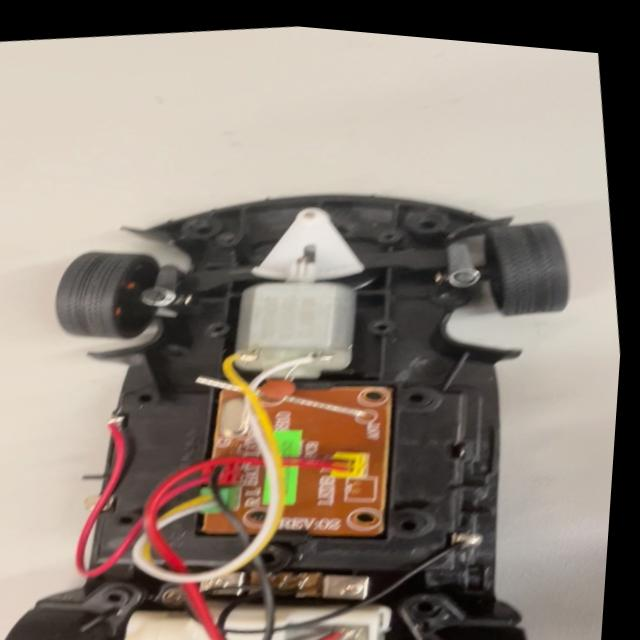motor: (215, 241, 365, 386)
wheel: (461, 205, 608, 336), (43, 226, 175, 352)
